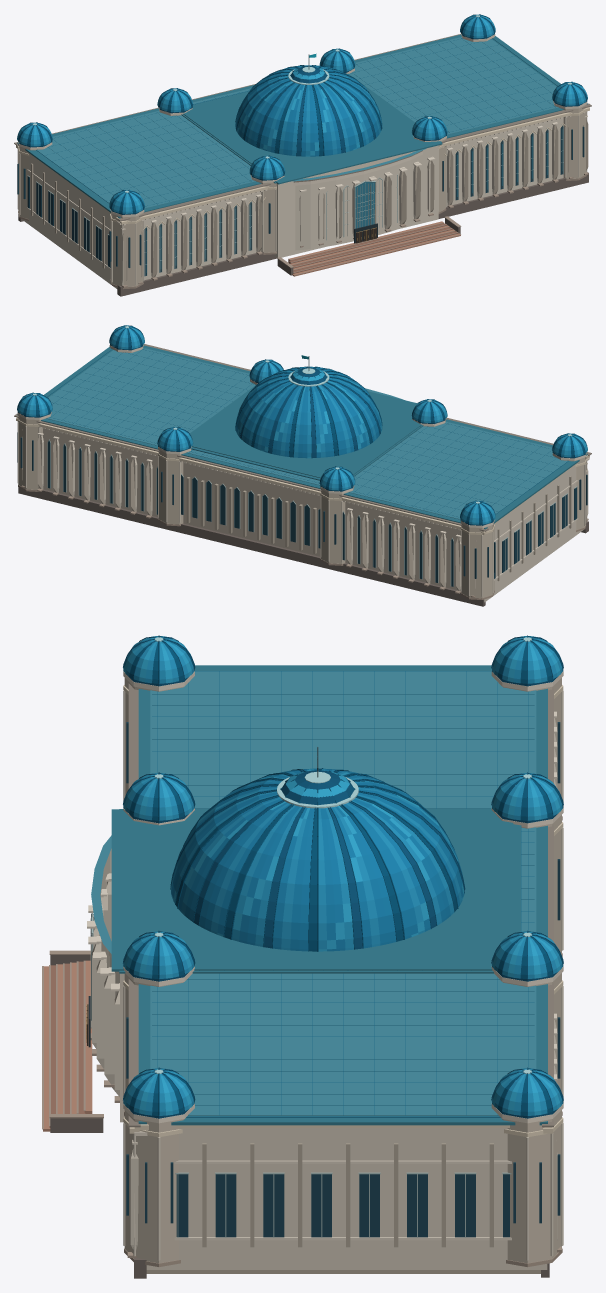
The model's file is central_state_museum_almaty.glb.
3 renders of one model, top to bottom at view 1: azimuth 30°, elevation 25°; view 2: azimuth 150°, elevation 25°; view 3: azimuth 270°, elevation 25°, orthographic. The views are drawn at different scales.
Visible parts, largest first — view 1: Museum_roof_flat_light, Museum_limestone_light, Museum_limestone, Museum_roof_flat, Museum_roof_mid, Museum_roof, Museum_glass_dark, Museum_roof_rib, Museum_frame, Museum_granite, Museum_roof_light, Museum_roof_seam (+9 smaller); view 2: Museum_roof_flat_light, Museum_limestone, Museum_roof_flat, Museum_limestone_light, Museum_glass_dark, Museum_roof_mid, Museum_roof, Museum_granite, Museum_roof_rib, Museum_frame, Museum_limestone_mid, Museum_roof_seam (+6 smaller); view 3: Museum_roof_flat_light, Museum_limestone_light, Museum_roof_flat, Museum_roof_mid, Museum_roof, Museum_limestone, Museum_roof_rib, Museum_glass_dark, Museum_roof_seam, Museum_roof_light, Museum_roof_dark, Museum_stone_detail (+9 smaller).
Boxes of the visible parts, x1,y1,x2,y2 form: Museum_roof_flat_light: (37,37,558,208); Museum_limestone_light: (17,111,587,288); Museum_limestone: (18,37,588,286); Museum_roof_flat: (17,34,587,218); Museum_roof_mid: (17,14,587,213); Museum_roof: (235,65,382,156); Museum_glass_dark: (17,126,584,275); Museum_roof_rib: (18,14,587,213); Museum_frame: (27,124,563,276); Museum_granite: (18,172,588,296); Museum_roof_light: (17,14,587,213); Museum_roof_seam: (36,38,557,206); Museum_roof_flat_light: (46,348,567,519); Museum_limestone: (18,348,586,598); Museum_roof_flat: (17,345,587,529); Museum_limestone_light: (17,422,588,602); Museum_glass_dark: (17,432,587,586); Museum_roof_mid: (17,325,587,524); Museum_roof: (235,366,382,458); Museum_granite: (18,487,588,606); Museum_roof_rib: (17,325,585,524); Museum_frame: (47,439,577,586); Museum_limestone_mid: (186,476,578,598); Museum_roof_seam: (47,348,568,516); Museum_roof_flat_light: (91,671,536,1115); Museum_limestone_light: (90,690,563,1269); Museum_roof_flat: (111,665,547,1125); Museum_roof_mid: (123,636,562,1115); Museum_roof: (171,768,464,951); Museum_limestone: (92,678,561,1263); Museum_roof_rib: (127,636,563,1115); Museum_glass_dark: (126,722,560,1237); Museum_roof_seam: (152,671,534,1117); Museum_roof_light: (124,636,560,1115); Museum_roof_dark: (123,635,563,1118); Museum_stone_detail: (87,671,563,1240).
Size of the model in its own units: 142 by 43.35 by 67.55.
